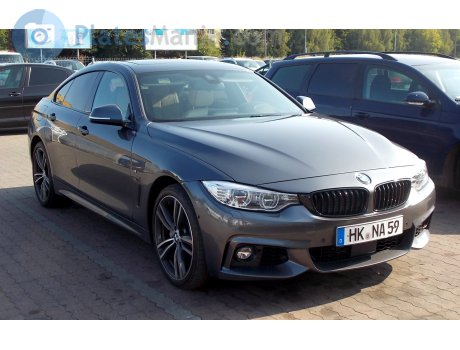License Plates: (342, 221, 401, 229)
